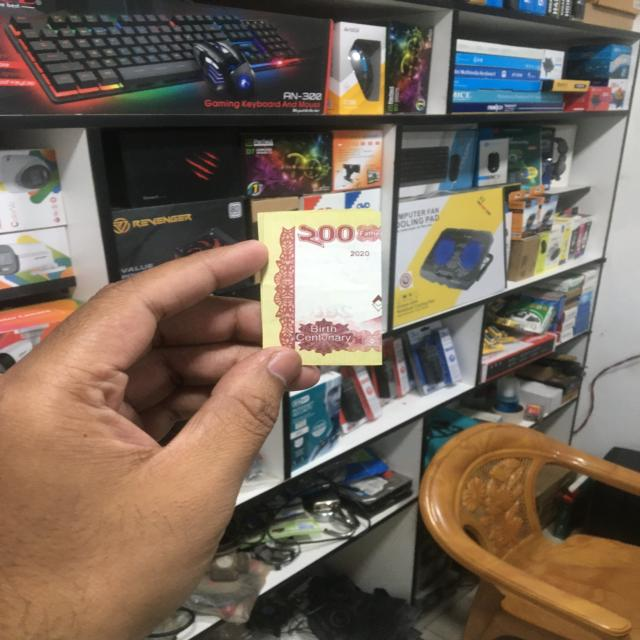Taka: (258, 209, 385, 362)
